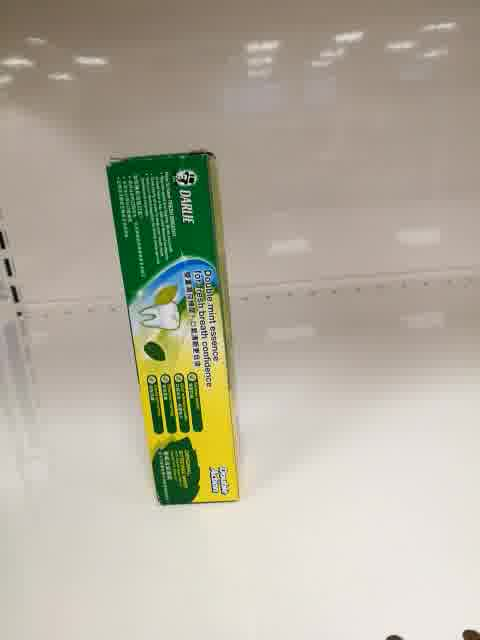toothpaste: (106, 149, 242, 505)
